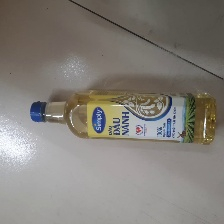Simply: (25, 88, 216, 147)
